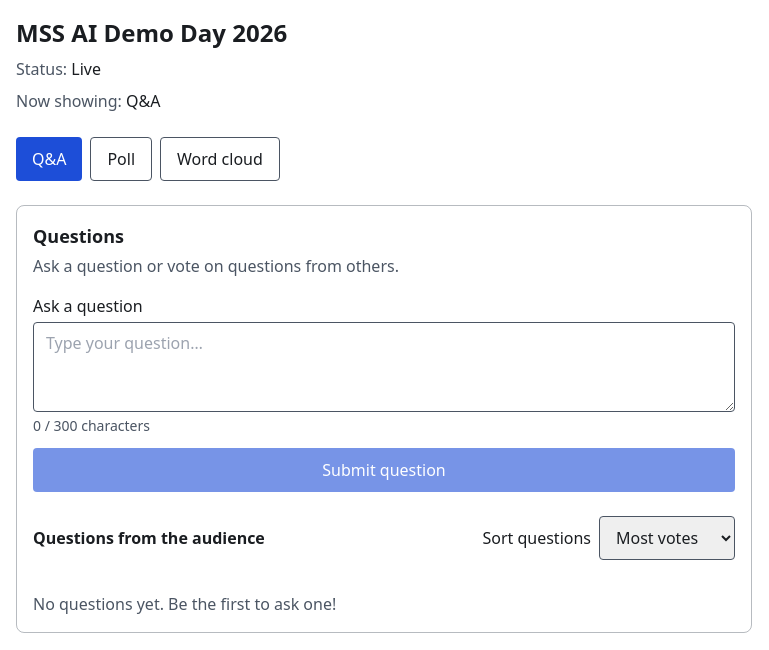
Test case: EventView — live event (Req 2.6) › switches the active interaction when a view tab is selected (Req 2.6)
This screenshot has width=769, height=650.
Expected: the heading "MSS AI Demo Day 2026" is shown, [16,16,287,49]
Expected: the text with test id "active-interaction" reads "Q&A", [126,90,160,112]
Click the tab "Poll": (121, 159) [90,137,152,181]
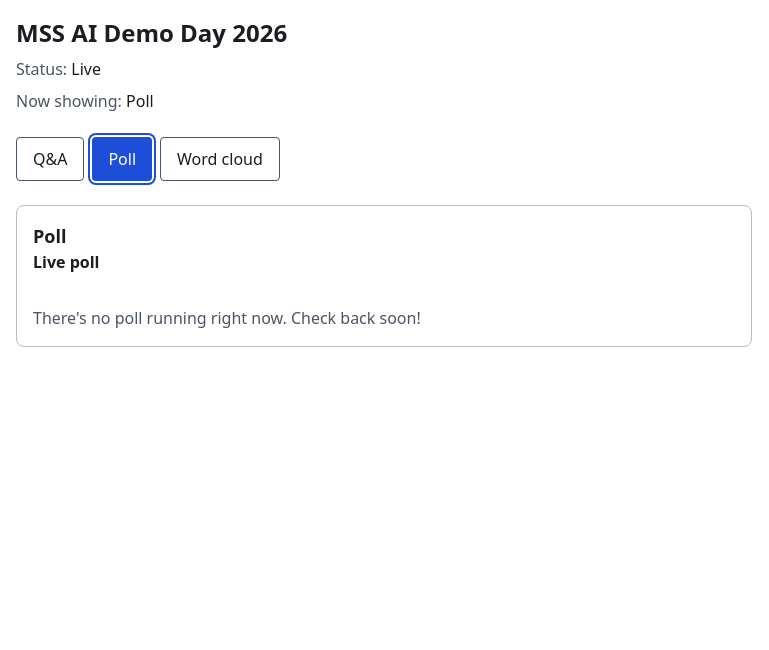
Expected: the text with test id "active-interaction" reads "Poll", [126,90,154,112]
Expected: the element with test id "poll-section" is shown, [16,205,752,347]
Expected: the element with test id "qa-section" is gone
